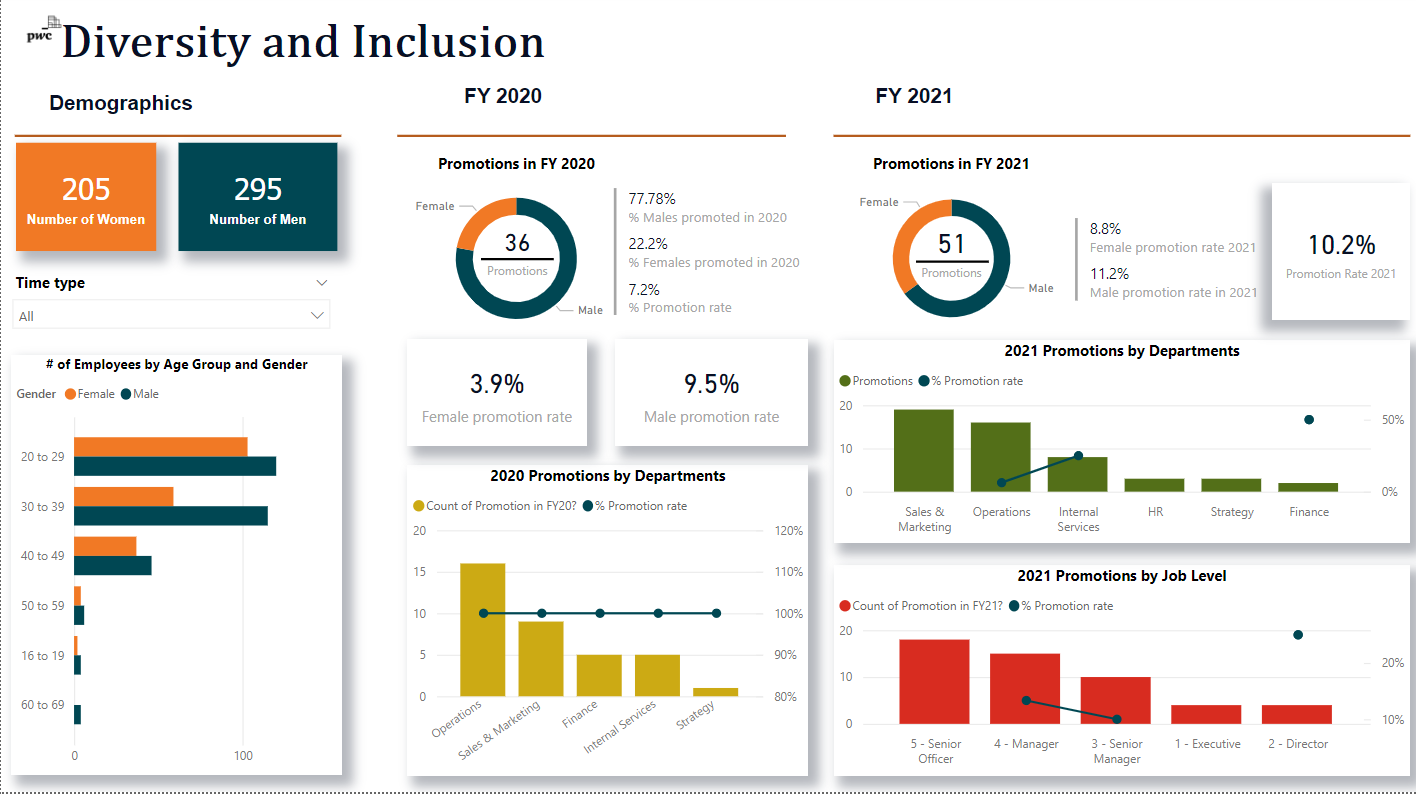

Layout of this report page (visuals, bound fields, positions):
{"tool":"powerbi","page":{"name":"2nd Report","canvas":[1280,720],"ordinal":1},"visuals":[{"type":"card","fields":{"Values":["Pharma Group AG.# of promotions in 2021"]},"box":[782.9,184.3,147.1,92.9],"z":0},{"type":"textbox","box":[48.2,15.6,479.2,67.7],"z":1000},{"type":"image","box":[0,0,78.1,62.5],"z":2000},{"type":"shape","box":[12.9,112.9,294.3,30],"z":3000},{"type":"textbox","box":[38.6,82.9,160,41.4],"z":4000},{"type":"card","fields":{"Values":["CountNonNull(Pharma Group AG.Gender)"]},"box":[13,134.1,126.3,97.7],"z":5000},{"type":"card","fields":{"Values":["CountNonNull(Pharma Group AG.Gender)"]},"box":[160.2,134.1,143.2,97.7],"z":6000},{"type":"clusteredBarChart","title":" # of Employees by Age Group and Gender","fields":{"Category":["Pharma Group AG.Age group"],"Y":["CountNonNull(Pharma Group AG.Employee ID)"],"Series":["Pharma Group AG.Gender"]},"box":[8.6,325.7,298.6,378.6],"z":7000},{"type":"slicer","fields":{"Values":["Pharma Group AG.Time type"]},"box":[0,245.7,307.1,70],"z":8000},{"type":"shape","box":[357.1,112.9,350,30],"z":9000},{"type":"textbox","box":[412.9,77.1,132.9,35.7],"z":10000},{"type":"card","fields":{"Values":["Pharma Group AG.# of promotions in 2020"]},"box":[385.7,157.1,160,147.1],"z":11000},{"type":"donutChart","title":"Promotions in FY 2020","fields":{"Category":["Pharma Group AG.Gender"],"Y":["CountNonNull(Pharma Group AG.Promotion in FY20?)"]},"box":[342.9,142.9,244.3,172.9],"z":12000},{"type":"shape","box":[432.9,231.4,65.7,15.7],"z":13000},{"type":"multiRowCard","fields":{"Values":["Pharma Group AG.% Males promoted in 2020","Pharma Group AG.% Females promoted in 2020","Pharma Group AG.% Promotion rate"]},"box":[547.1,170,202.9,124.3],"z":14000},{"type":"donutChart","title":"Promotions in FY 2021","fields":{"Category":["Pharma Group AG.Gender"],"Y":["CountNonNull(Pharma Group AG.Promotion in FY21?)"]},"box":[750,142.9,212.9,172.9],"z":15000},{"type":"shape","box":[750,112.9,520,30],"z":16000},{"type":"textbox","box":[782.9,77.1,155.7,34.3],"z":17000},{"type":"shape","box":[824.3,232.9,65.7,15.7],"z":18000},{"type":"card","fields":{"Values":["Pharma Group AG.female promotion rate"]},"box":[365.7,311.4,161.4,97.1],"z":19000},{"type":"multiRowCard","fields":{"Values":["Pharma Group AG.Female promotion rate 2021","Pharma Group AG.Male promotion rate in 2021"]},"box":[962.9,197.1,182.9,102.9],"z":20000},{"type":"card","fields":{"Values":["Pharma Group AG.Male promotion rate"]},"box":[552.9,311.4,174.3,97.1],"z":21000},{"type":"lineStackedColumnComboChart","title":"2020 Promotions by Departments","fields":{"Category":["Pharma Group AG.Department @01.07.2020"],"Y":["CountNonNull(Pharma Group AG.Promotion in FY20?)"],"Y2":["Pharma Group AG.% Promotion rate"]},"box":[365.7,424.3,361.4,280],"z":22000},{"type":"card","fields":{"Values":["Pharma Group AG.promotion rate 2021"]},"box":[1145.7,170,124.3,124.3],"z":23000},{"type":"lineStackedColumnComboChart","title":"2021 Promotions by Departments","fields":{"Category":["Pharma Group AG.Department @01.07.2020"],"Y2":["Pharma Group AG.% Promotion rate"],"Y":["CountNonNull(Pharma Group AG.Promotion in FY21?)"]},"box":[750,311.7,520,183.3],"z":24000},{"type":"lineStackedColumnComboChart","title":"2021 Promotions by Job Level","fields":{"Category":["Pharma Group AG.Job Level after FY21 promotions"],"Y2":["Pharma Group AG.% Promotion rate"],"Y":["CountNonNull(Pharma Group AG.Promotion in FY21?)"]},"box":[750,515,520,190],"z":25000}]}

Visuals, with their boxes in screenshot pixels (x1, y1, x2, y2), scaled from the page's 1280x720 canvas onto the 1416x794 screenshot:
card - Pharma Group AG.# of promotions in 2021: region(866, 203, 1029, 306)
textbox: region(53, 17, 583, 92)
image: region(0, 0, 86, 69)
shape: region(14, 125, 340, 158)
textbox: region(43, 91, 220, 137)
card - CountNonNull(Pharma Group AG.Gender): region(14, 148, 154, 256)
card - CountNonNull(Pharma Group AG.Gender): region(177, 148, 336, 256)
" # of Employees by Age Group and Gender" clusteredBarChart: region(10, 359, 340, 777)
slicer - Pharma Group AG.Time type: region(0, 271, 340, 348)
shape: region(395, 125, 782, 158)
textbox: region(457, 85, 604, 124)
card - Pharma Group AG.# of promotions in 2020: region(427, 173, 604, 335)
"Promotions in FY 2020" donutChart: region(379, 158, 650, 348)
shape: region(479, 255, 552, 272)
multiRowCard - Pharma Group AG.% Males promoted in 2020 x Pharma Group AG.% Females promoted in 2020: region(605, 187, 830, 325)
"Promotions in FY 2021" donutChart: region(830, 158, 1065, 348)
shape: region(830, 125, 1405, 158)
textbox: region(866, 85, 1038, 123)
shape: region(912, 257, 985, 274)
card - Pharma Group AG.female promotion rate: region(405, 343, 583, 450)
multiRowCard - Pharma Group AG.Female promotion rate 2021 x Pharma Group AG.Male promotion rate in 2021: region(1065, 217, 1268, 331)
card - Pharma Group AG.Male promotion rate: region(612, 343, 804, 450)
"2020 Promotions by Departments" lineStackedColumnComboChart: region(405, 468, 804, 777)
card - Pharma Group AG.promotion rate 2021: region(1267, 187, 1405, 325)
"2021 Promotions by Departments" lineStackedColumnComboChart: region(830, 344, 1405, 546)
"2021 Promotions by Job Level" lineStackedColumnComboChart: region(830, 568, 1405, 777)
